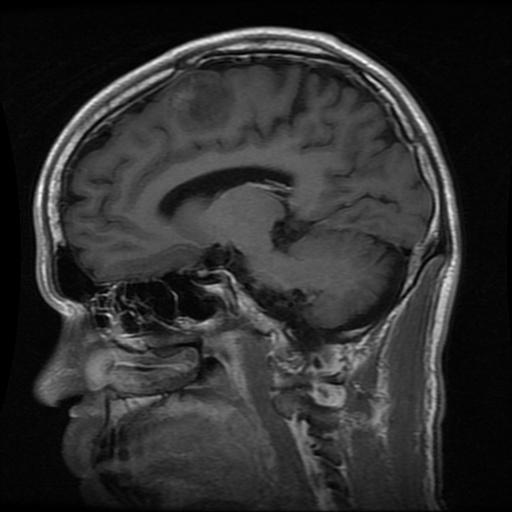glioma: (172, 71, 236, 130)
